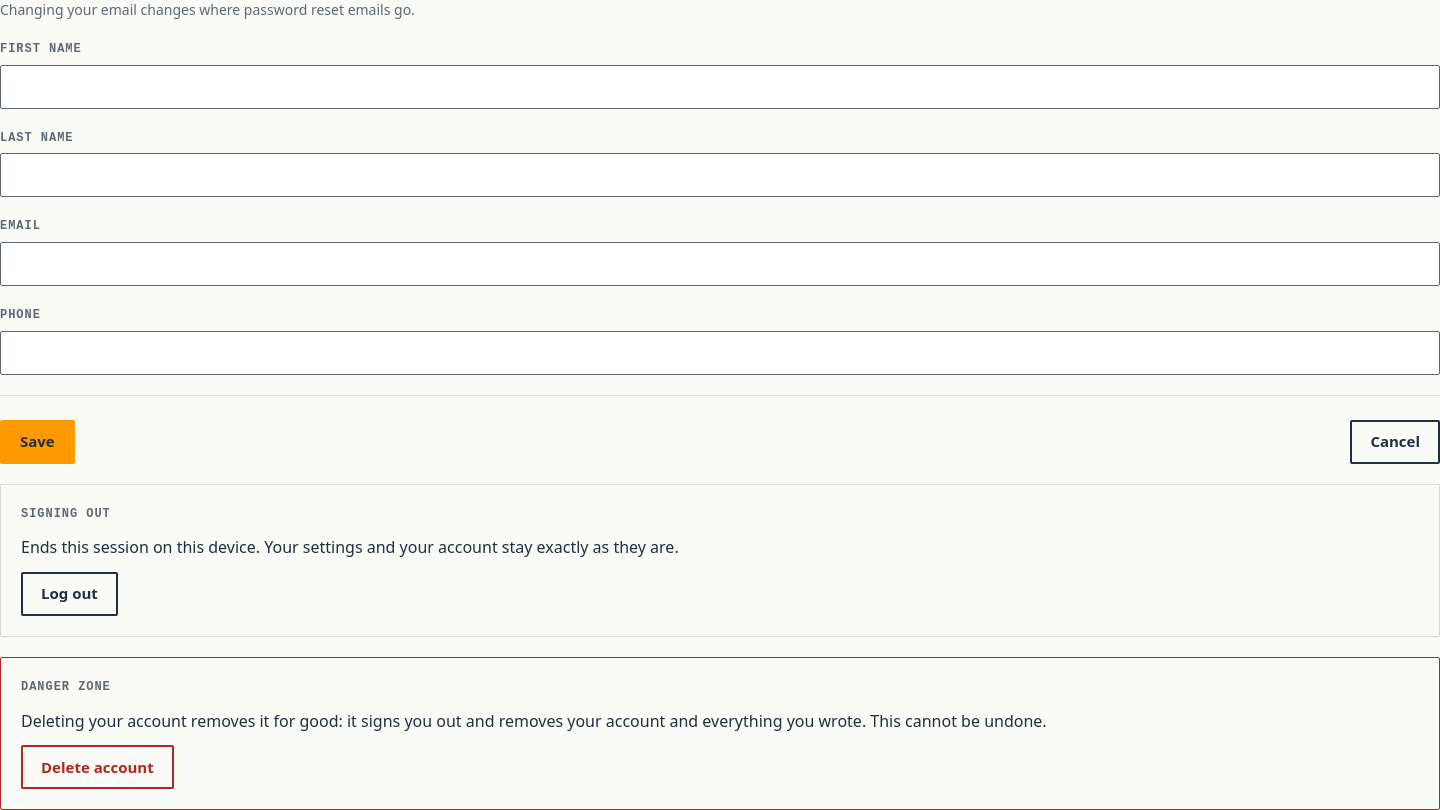
Test case: Deleting the account › says what happens first, with Cancel focused, before asking for the password
(page scrolled)
Click the button "Delete account" at (97, 767), box [21,745,174,789]
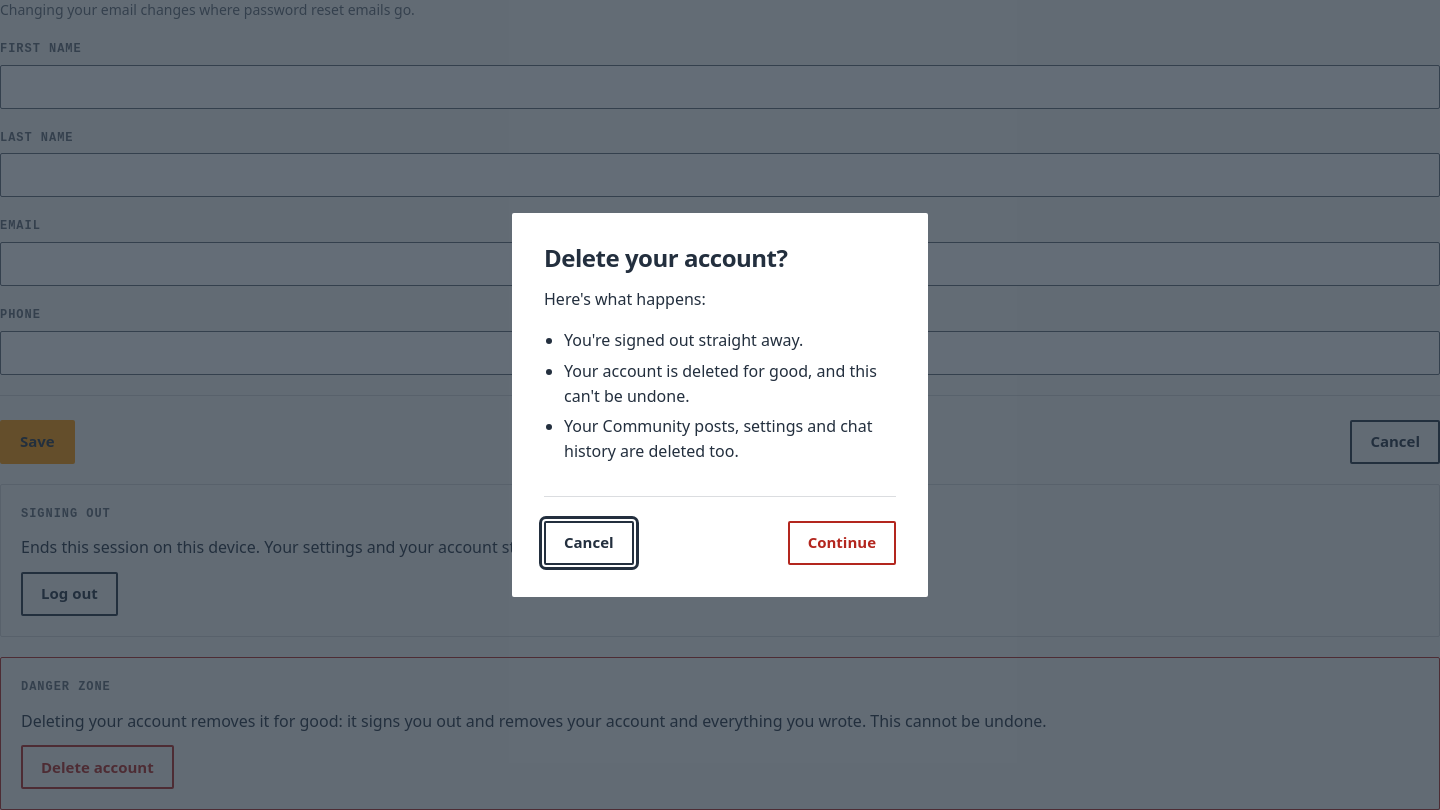
Result: the dialog "Delete your account?" shows "You're signed out straight away." at [564,329,803,351]
Click the button "Continue" at (842, 543), box [788,521,896,565]
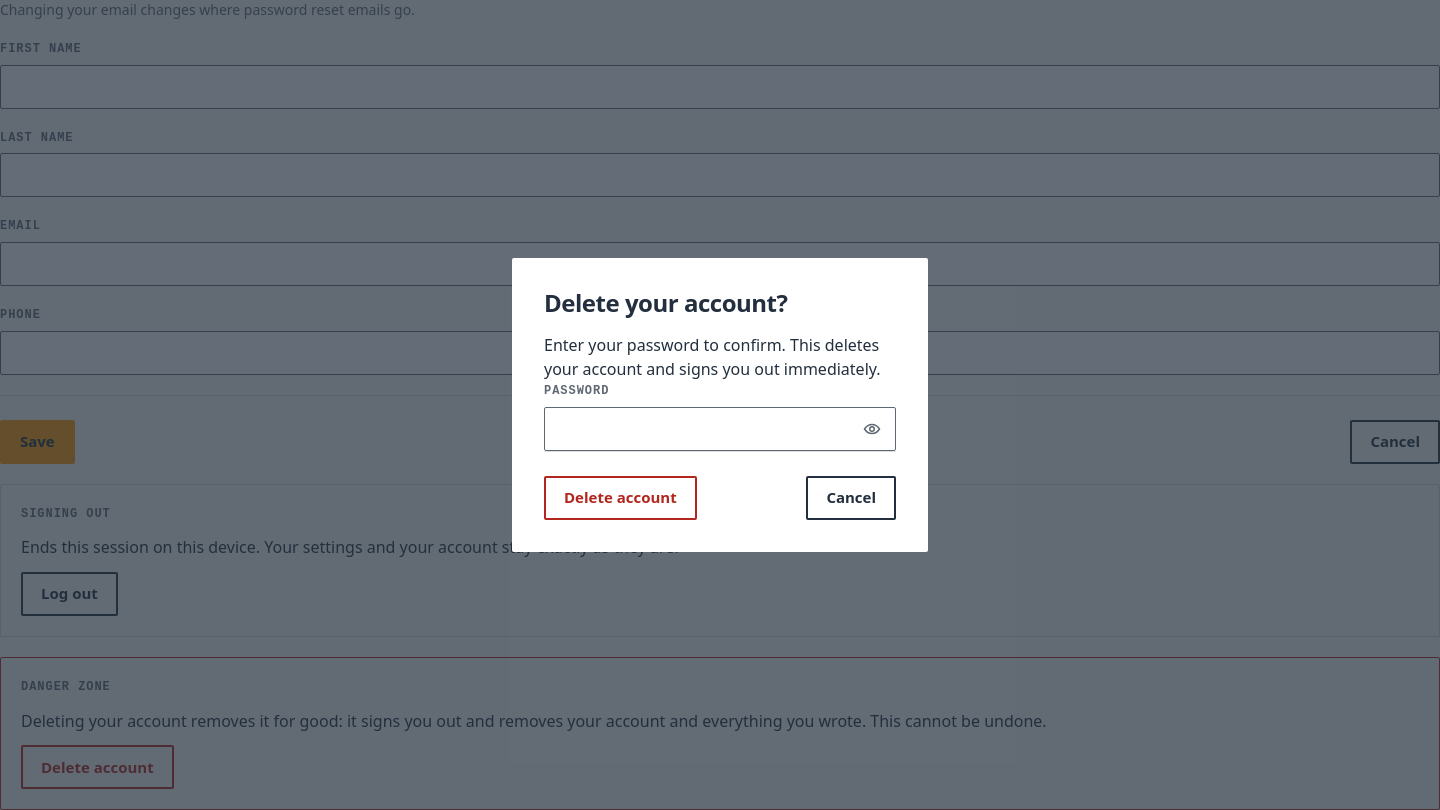
Result: the password field labelled "Password" is shown at [544,407,896,451]
